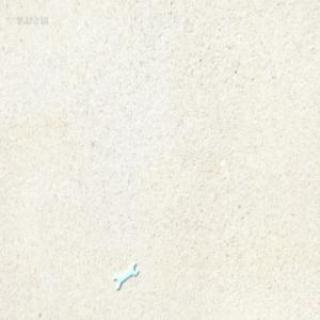Wrenchtrack_idkeyframe: (113, 259, 137, 290)
